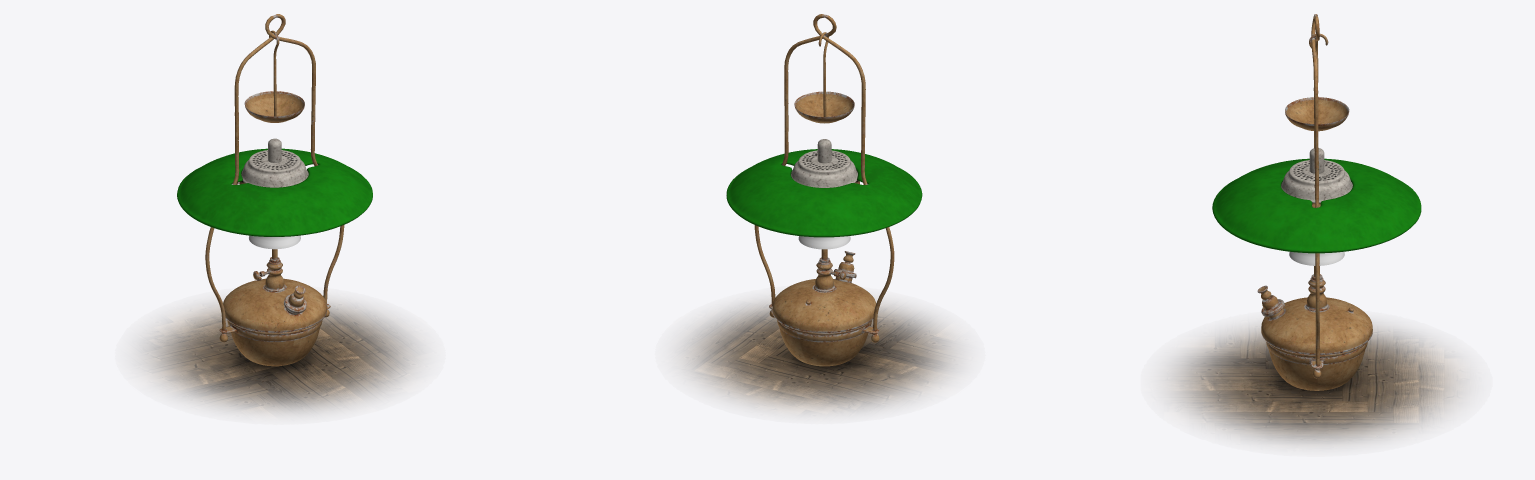
The model's file is Tilley7.glb.
3 renders of one model, left to right at view 1: azimuth 30°, elevation 25°; view 2: azimuth 150°, elevation 25°; view 3: azimuth 270°, elevation 25°, orthographic. The views are drawn at different scales.
Visible parts, largest first — view 1: Tilley_016, Base; view 2: Tilley_016, Base; view 3: Tilley_016, Base.
Part boxes in pixels (x1,y1,x2,y2): Tilley_016: (177, 14, 372, 366); Base: (141, 300, 419, 413); Tilley_016: (726, 14, 922, 366); Base: (681, 300, 958, 412); Tilley_016: (1212, 14, 1421, 390); Base: (1168, 324, 1464, 444).
Bounding box in the file's own units: 2.09 × 2.06 × 2.09.
2 materials, 2 textured.
